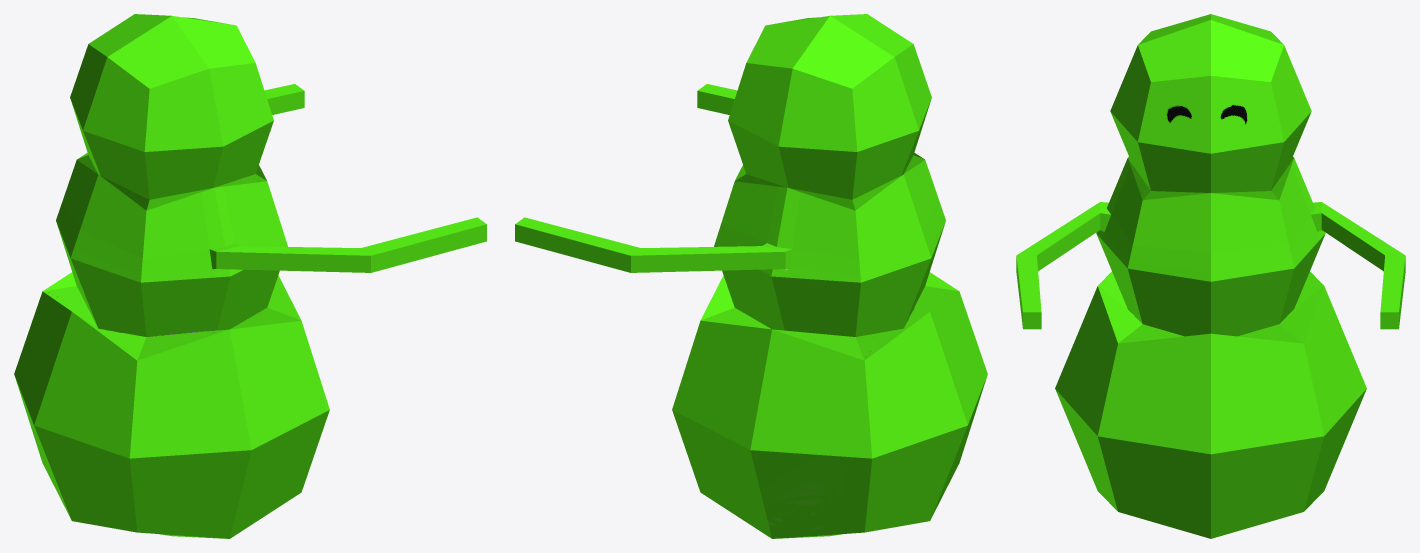
The model's file is alien1.fbx.
3 views of the same model, side by side, from view 1: azimuth 30°, elevation 25°; view 2: azimuth 150°, elevation 25°; view 3: azimuth 270°, elevation 25° (orthographic). The views are drawn at different scales.
Parts seen in each view (by area): view 1: Cube.001; view 2: Cube.001; view 3: Cube.001.
Boxes of the visible parts, x1,y1,x2,y2 form: Cube.001: (14,14,486,538); Cube.001: (515,14,987,538); Cube.001: (1016,14,1405,538).
Bounding box in the file's own units: 434 × 606 × 419.
1 material, 1 textured.
